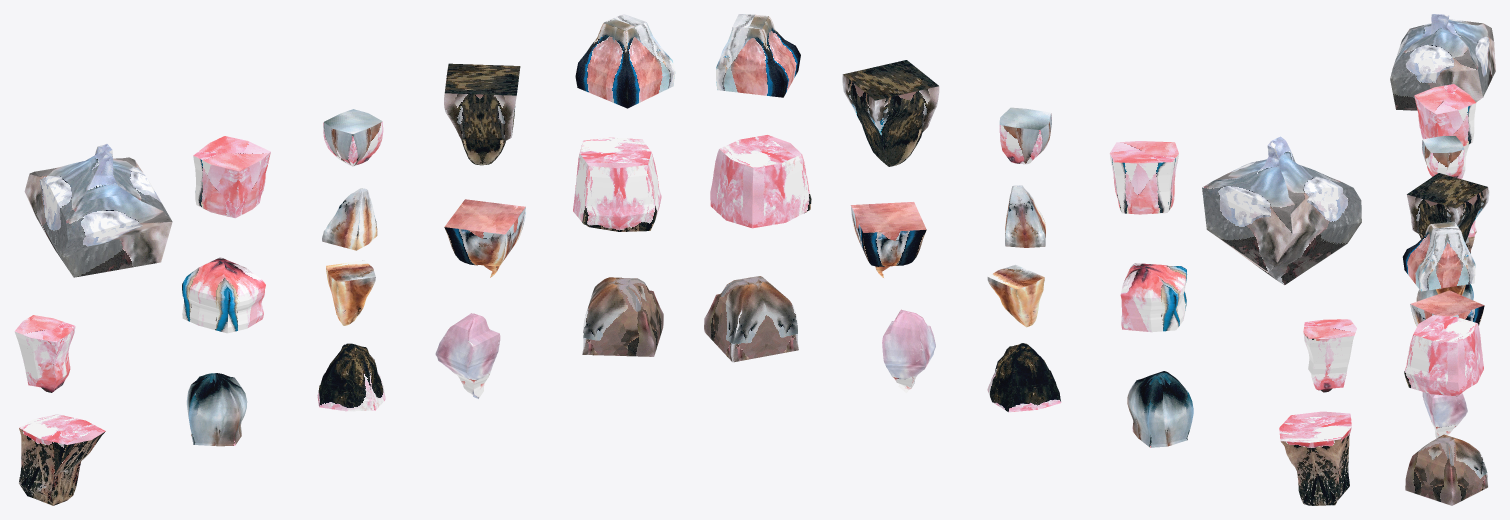
The picture shows the model from 3 angles, left to right: view 1: azimuth 30°, elevation 25°; view 2: azimuth 150°, elevation 25°; view 3: azimuth 270°, elevation 25°; orthographic projection. The views are drawn at different scales.
Parts seen in each view (by area): view 1: SPLICE_2 (×5), SPLICE_1 (×5), master (×2), SPLICE_3 (×2), splice_2, splice_1; view 2: SPLICE_2 (×5), SPLICE_1 (×5), master (×2), SPLICE_3 (×2), splice_1, splice_2; view 3: SPLICE_2 (×5), master (×2), SPLICE_1 (×3), splice_1, SPLICE_3.
Boxes of the visible parts, left/top/right/bottom form: SPLICE_2 (×5): left=24, top=136, right=661, bottom=446; SPLICE_1 (×5): left=182, top=14, right=675, bottom=411; master (×2): left=444, top=63, right=663, bottom=356; SPLICE_3 (×2): left=14, top=315, right=105, bottom=505; splice_2: left=322, top=188, right=377, bottom=250; splice_1: left=326, top=260, right=375, bottom=325; SPLICE_2 (×5): left=710, top=135, right=1361, bottom=447; SPLICE_1 (×5): left=716, top=14, right=1186, bottom=412; master (×2): left=704, top=60, right=939, bottom=362; SPLICE_3 (×2): left=1279, top=319, right=1356, bottom=505; splice_1: left=987, top=264, right=1044, bottom=327; splice_2: left=1005, top=185, right=1045, bottom=247; SPLICE_2 (×5): left=1390, top=14, right=1495, bottom=396; master (×2): left=1405, top=173, right=1489, bottom=505; SPLICE_1 (×3): left=1402, top=136, right=1475, bottom=438; splice_1: left=1436, top=284, right=1465, bottom=295; SPLICE_3: left=1422, top=138, right=1469, bottom=178.
Size of the model in its own units: 11.73 by 6.03 by 2.02.
16 materials, 16 textured.
